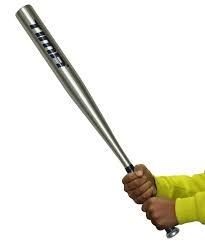baseball bat: (15, 3, 180, 238)
